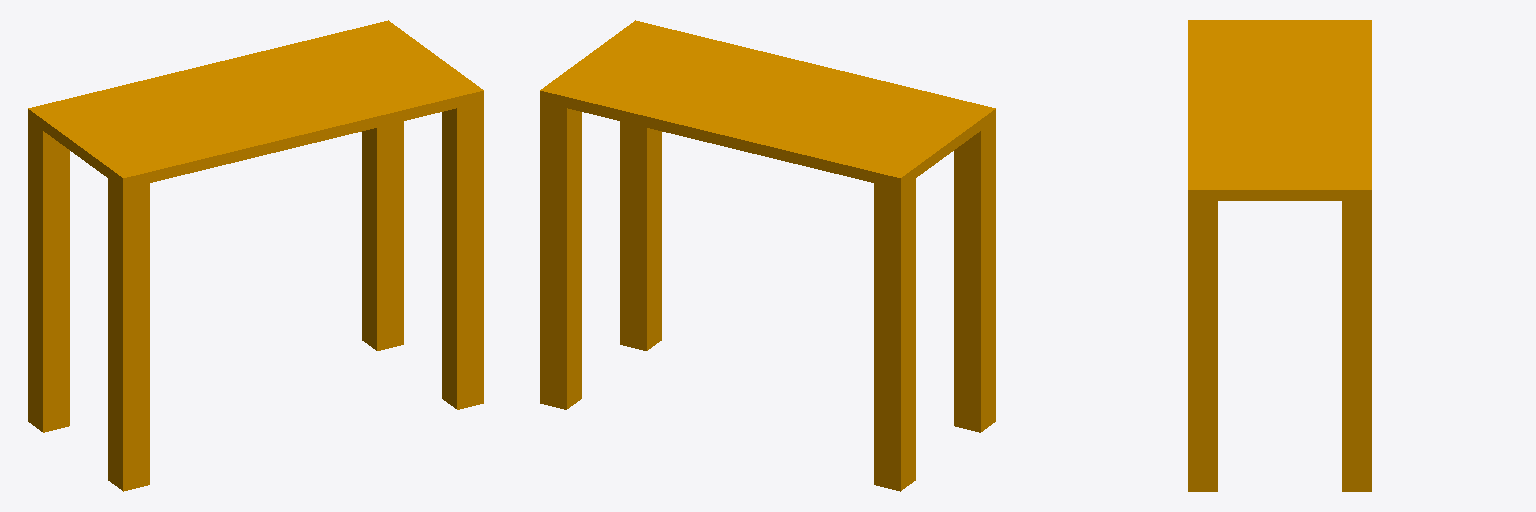
robot.urdf — 16632d002fc0eec9917b96045c9b6dea:
<?xml version="1.0" ?>
<robot name="16632d002fc0eec9917b96045c9b6dea">

  <link name="base">

    <inertial>
      <mass value="1"/>
      <inertia ixx="1" ixy="0" ixz="0" iyy="1" iyz="0" izz="1"/>
    </inertial>

    <visual>
      <origin rpy="1.57079 0 0" xyz="0 0 0.3"/>
      <geometry>
        <mesh filename ="models/model_normalized.obj" scale="1 1 1"/>
      </geometry>
    </visual>

    <collision>
      <origin rpy="1.57079 0 0" xyz="0 0 0.3"/>
      <geometry>
        <mesh filename ="models/model_normalized.obj" scale="1 1 1"/>
      </geometry>
    </collision>

  </link>
  
</robot>

--- Render facts (derived) ---
The picture shows the robot from 3 angles, left to right: view 1: azimuth 30°, elevation 25°; view 2: azimuth 150°, elevation 25°; view 3: azimuth 270°, elevation 25°; orthographic projection.
Model 16632d002fc0eec9917b96045c9b6dea with 1 links and 0 joints (none), rooted at base, posed every joint at zero.
Visible links, largest first — view 1: base; view 2: base; view 3: base.
Boxes of the visible links, x1,y1,x2,y2 form: base: (28,20,483,491); base: (540,20,995,491); base: (1188,20,1371,491).
Size in the robot's own frame: 0.7257 by 0.3331 by 0.602 metres.
1 mesh visuals loaded from 1 distinct referenced files (1 OBJ).